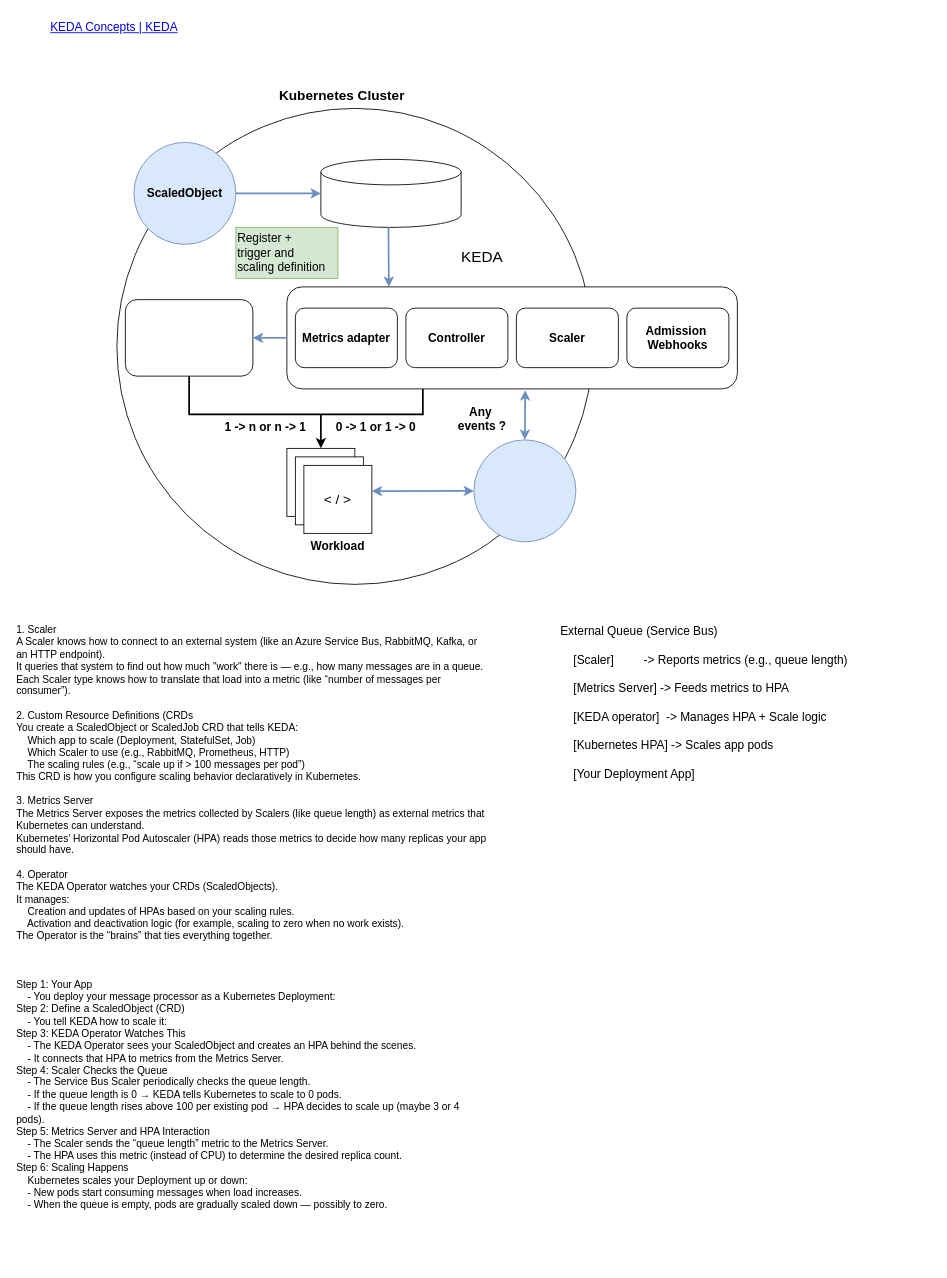
This 947x1278 diagram has some shape labels left out. The shapes that lost their labels are listed below. From the top down, each one's box as (x1, y1, x2, y2) in pixels, then its label:
(320, 159, 461, 227): Kubernetes API Server
(125, 299, 253, 376): Horizontal pod autoscaler
(473, 439, 576, 542): External trigger source
